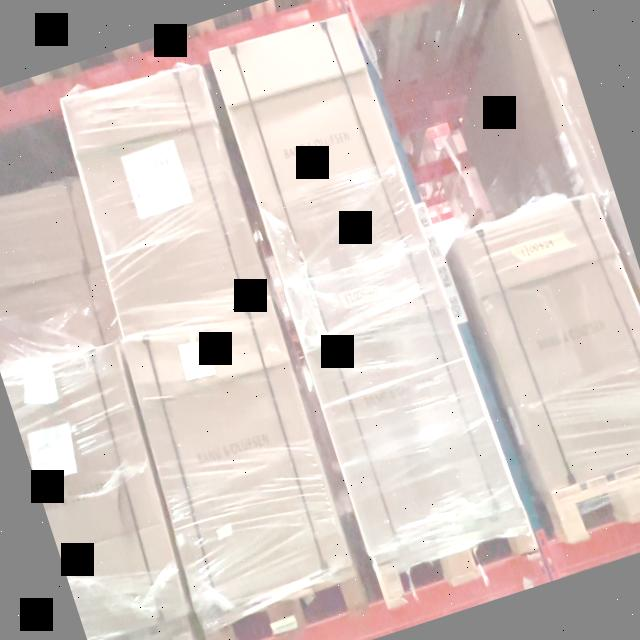box: (282, 229, 524, 558), (120, 296, 352, 617), (56, 54, 273, 341), (0, 334, 200, 640), (208, 2, 424, 282), (451, 184, 640, 495), (0, 160, 106, 311), (0, 263, 124, 376)
